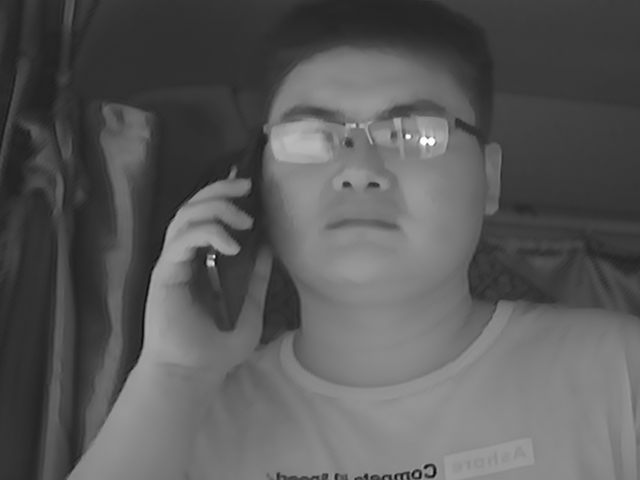hand: (141, 176, 266, 363)
